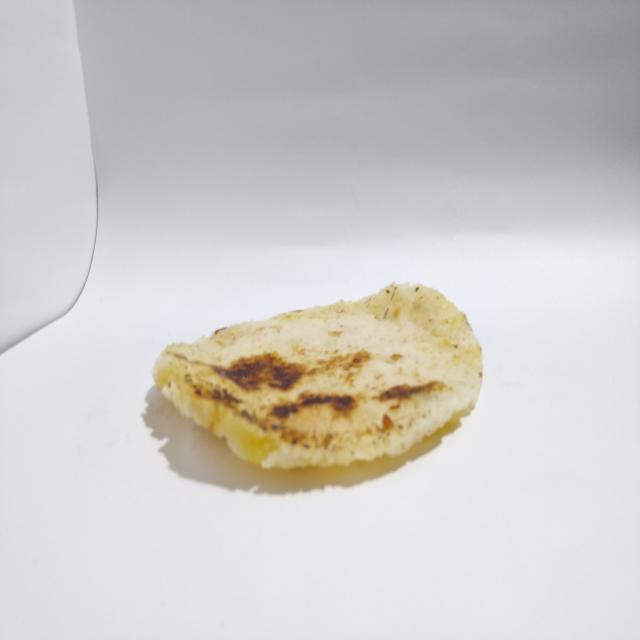Food: (142, 273, 488, 493)
